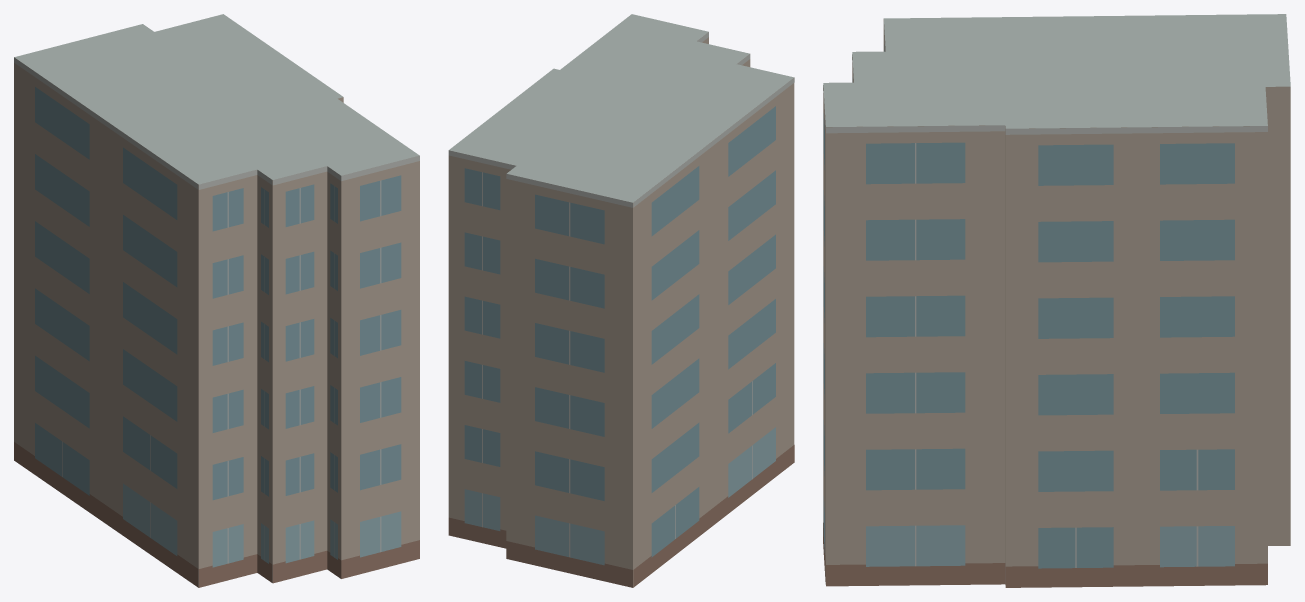
The model's file is survey-upis-32669308.glb.
The picture shows the model from 3 angles, left to right: view 1: azimuth 30°, elevation 25°; view 2: azimuth 150°, elevation 25°; view 3: azimuth 270°, elevation 25°; orthographic projection. The views are drawn at different scales.
Visible parts, largest first — view 1: survey-upis-32669308.tmp; view 2: survey-upis-32669308.tmp; view 3: survey-upis-32669308.tmp.
Boxes of the visible parts, x1,y1,x2,y2 form: survey-upis-32669308.tmp: (14, 14, 419, 587); survey-upis-32669308.tmp: (448, 14, 794, 587); survey-upis-32669308.tmp: (823, 14, 1290, 587).
Size of the model in its own units: 9.76 by 18.2 by 16.81.
